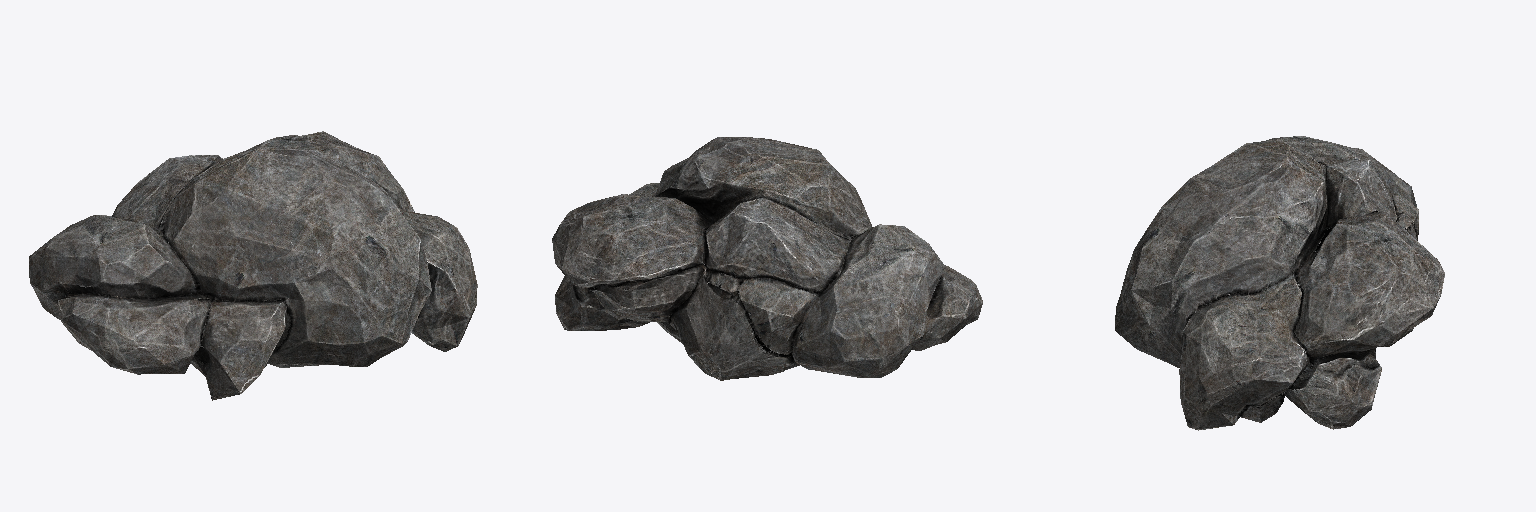
3 views of the same model, side by side, from view 1: azimuth 30°, elevation 25°; view 2: azimuth 150°, elevation 25°; view 3: azimuth 270°, elevation 25° (orthographic).
Visible parts, largest first — view 1: rocks_02; view 2: rocks_02; view 3: rocks_02.
Part boxes in pixels (left/top/right/bottom): rocks_02: left=29, top=131, right=477, bottom=400; rocks_02: left=552, top=137, right=982, bottom=380; rocks_02: left=1115, top=136, right=1444, bottom=430.
Bounding box in the file's own units: 136 × 67.57 × 98.91.
1 materials, 1 textured.